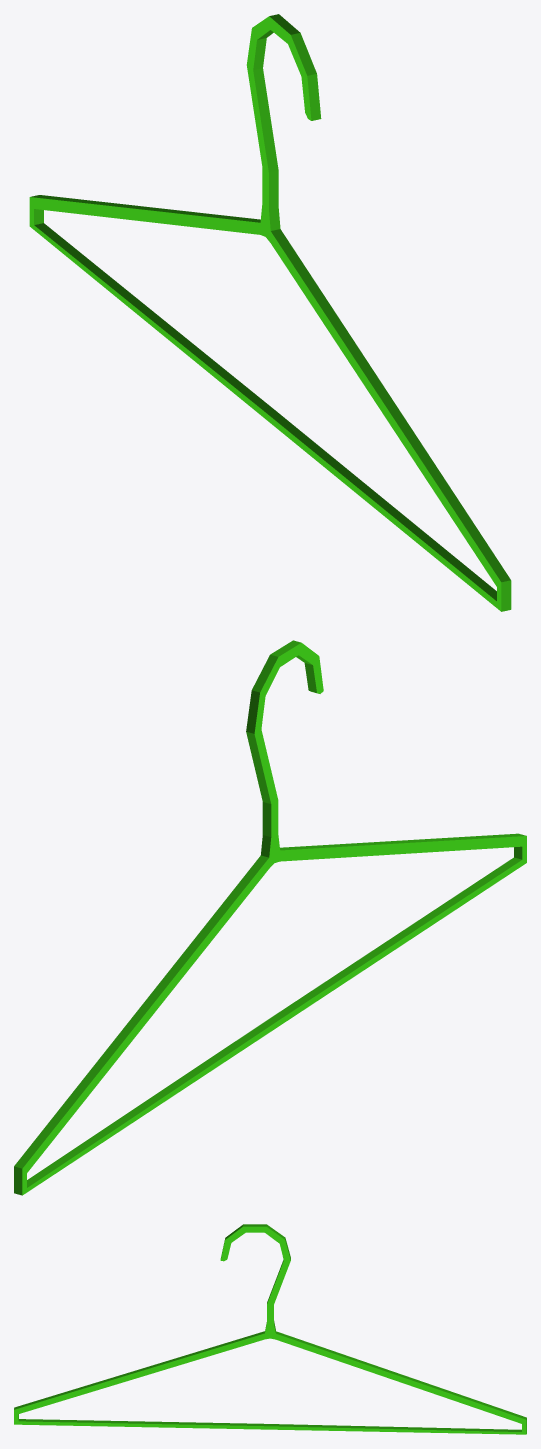
Rendered from Clothes Hanger 2.fbx.
3 views of the same model, one above another, from view 1: azimuth 30°, elevation 25°; view 2: azimuth 150°, elevation 25°; view 3: azimuth 270°, elevation 25° (orthographic). The views are drawn at different scales.
Visible parts, largest first — view 1: Clothes Hanger 2; view 2: Clothes Hanger 2; view 3: Clothes Hanger 2.
Boxes of the visible parts, x1=… form: Clothes Hanger 2: x1=29, y1=14, x2=511, y2=611; Clothes Hanger 2: x1=14, y1=640, x2=526, y2=1195; Clothes Hanger 2: x1=14, y1=1224, x2=526, y2=1434.
Size of the model in its own units: 0.7807 by 0.3409 by 0.0446.
